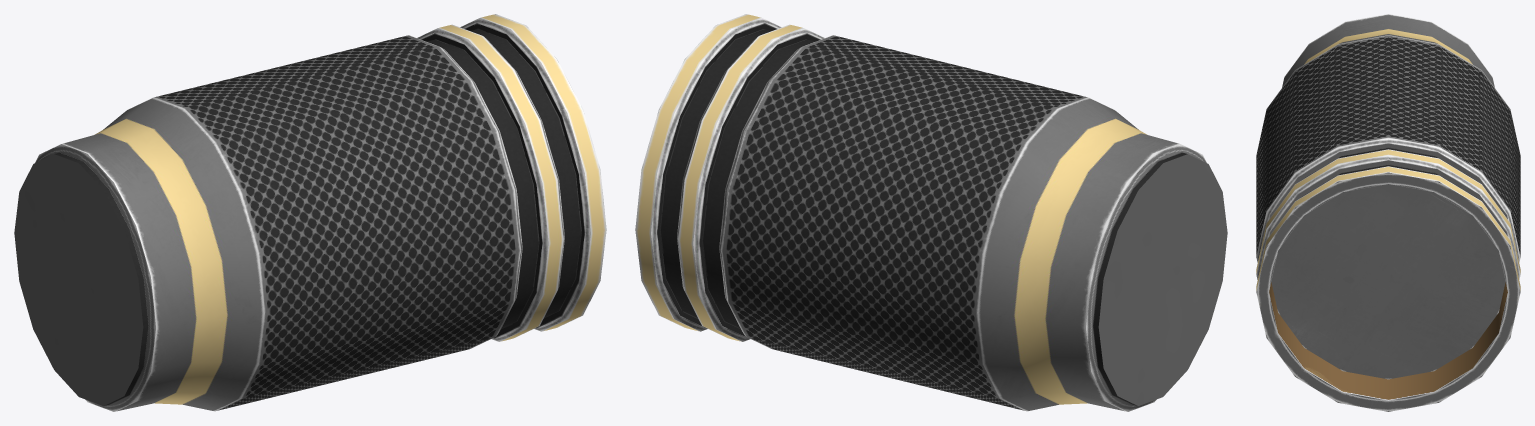
File: guard_15_c_b.glb
3 renders of one model, left to right at view 1: azimuth 30°, elevation 25°; view 2: azimuth 150°, elevation 25°; view 3: azimuth 270°, elevation 25°, orthographic. The views are drawn at different scales.
Parts seen in each view (by area): view 1: guard_15_c_b_lod0; view 2: guard_15_c_b_lod0; view 3: guard_15_c_b_lod0.
Part boxes in pixels (box(x1,y1,x2,y2)): guard_15_c_b_lod0: box(14, 14, 606, 411); guard_15_c_b_lod0: box(635, 14, 1227, 411); guard_15_c_b_lod0: box(1256, 14, 1520, 411).
Size of what is drawn, in the model's own units: 0.0569 by 0.0354 by 0.0354.
Materials: 1 (1 with a texture image).
